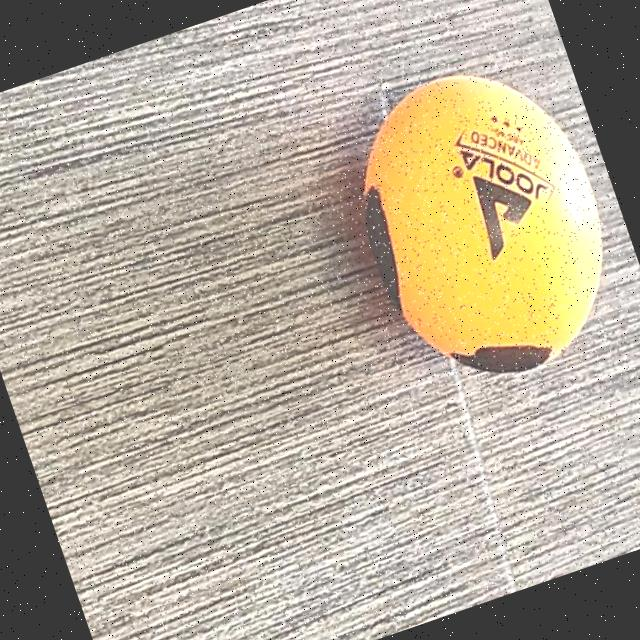ping-pong-ball: (314, 39, 640, 417)
